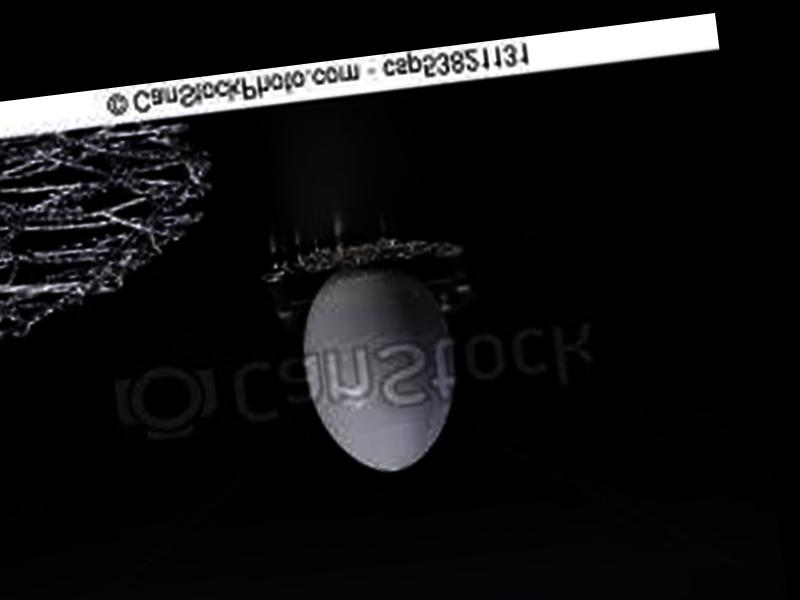Eggs: (291, 254, 467, 480)
